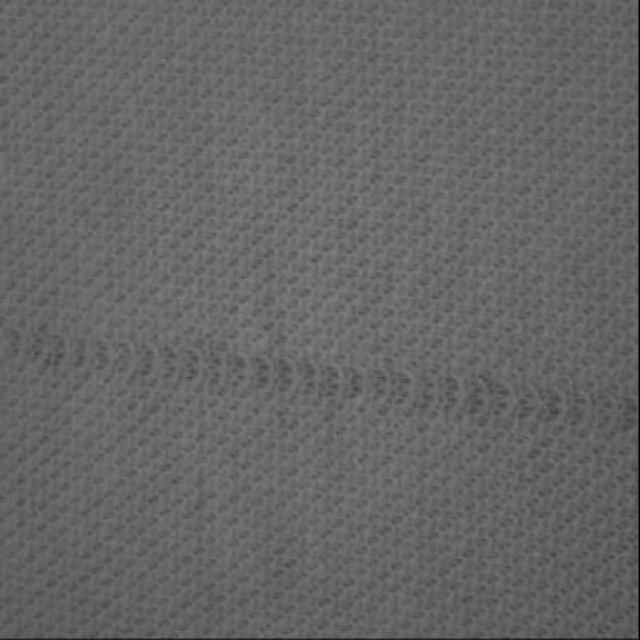Line: (1, 321, 635, 433)
